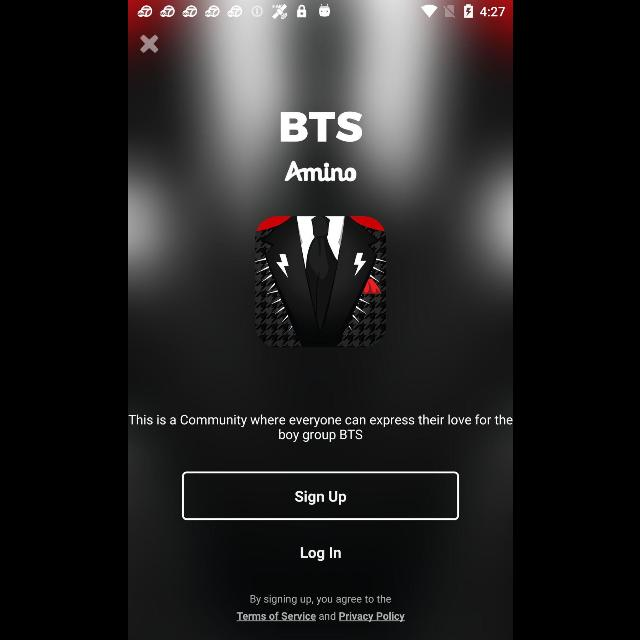icon: (140, 34, 158, 54)
image: (254, 216, 386, 348), (284, 160, 356, 182)
text: (128, 414, 512, 444), (236, 594, 404, 622), (280, 111, 362, 143), (300, 547, 340, 561)
textbutton: (182, 472, 458, 520)
uppertaskbar: (128, 1, 512, 21)
